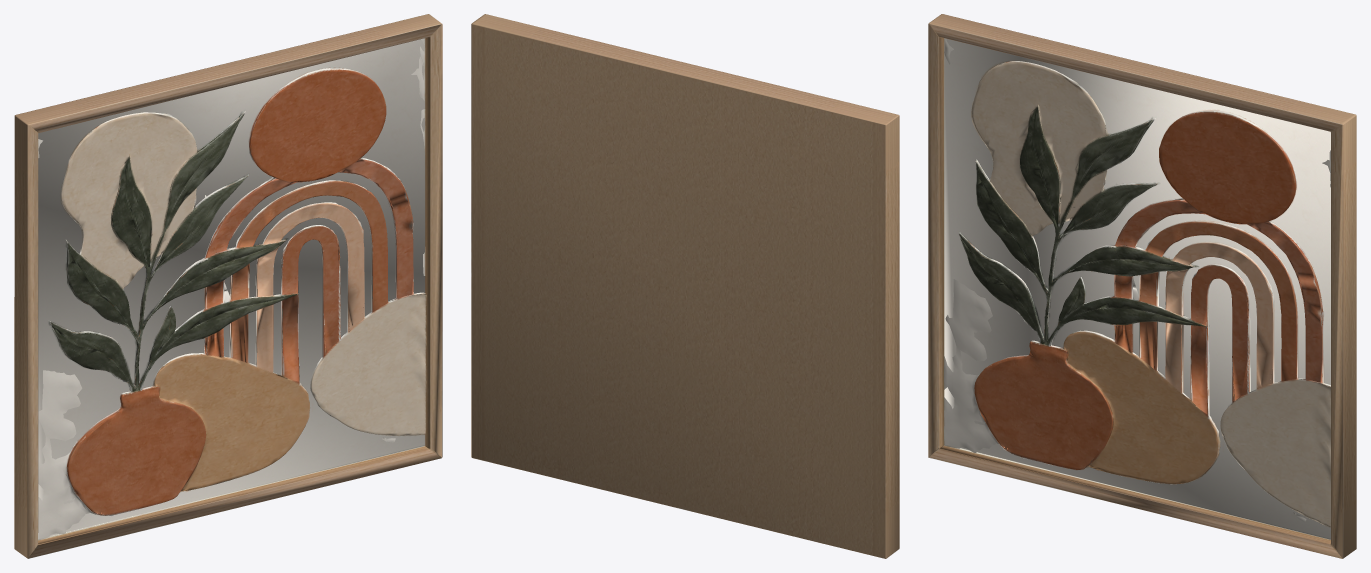
File: indie-painting.glb
3 renders of one model, left to right at view 1: azimuth 30°, elevation 25°; view 2: azimuth 150°, elevation 25°; view 3: azimuth 330°, elevation 25°, orthographic.
Bounding box in the file's own units: 0.9497 × 0.9507 × 0.0542.
Materials: 1 (1 with a texture image).
